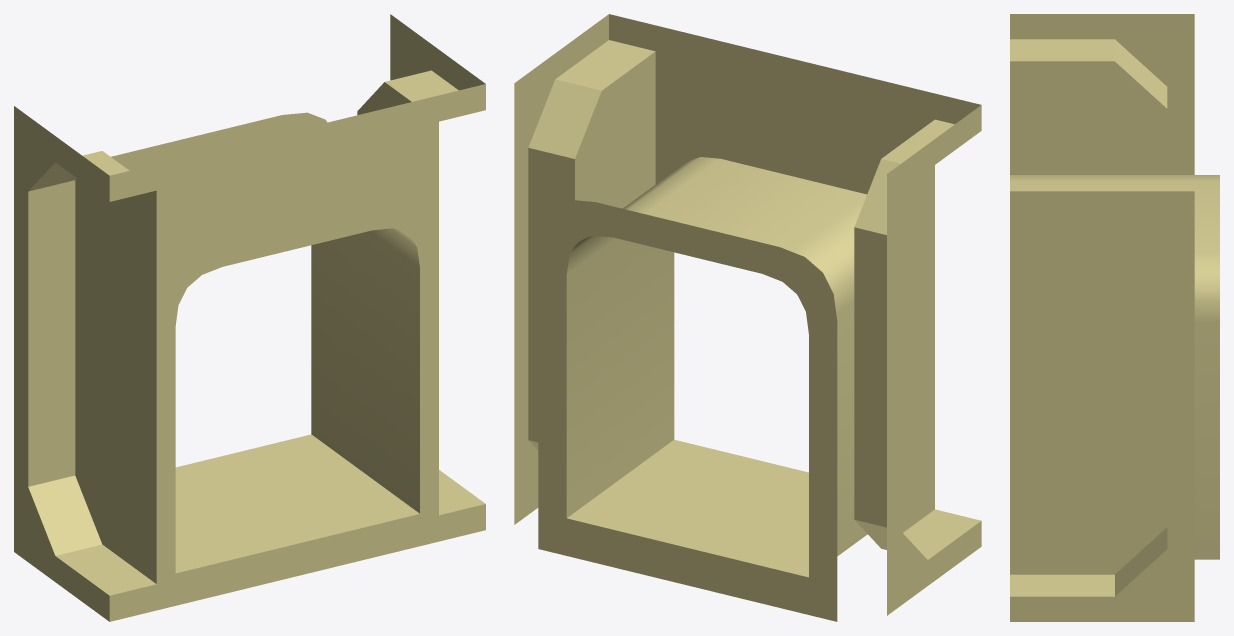
The model's file is CLow_Wall_A_Door.FBX.
3 views of the same model, side by side, from view 1: azimuth 30°, elevation 25°; view 2: azimuth 150°, elevation 25°; view 3: azimuth 270°, elevation 25° (orthographic). The views are drawn at different scales.
Visible parts, largest first — view 1: CLow_Wall_A_Door; view 2: CLow_Wall_A_Door; view 3: CLow_Wall_A_Door.
Part boxes in pixels (x1=…): CLow_Wall_A_Door: x1=14, y1=14, x2=485, y2=621; CLow_Wall_A_Door: x1=514, y1=14, x2=981, y2=621; CLow_Wall_A_Door: x1=1010, y1=14, x2=1219, y2=621.
Bounding box in the file's own units: 300 × 344 × 150.
